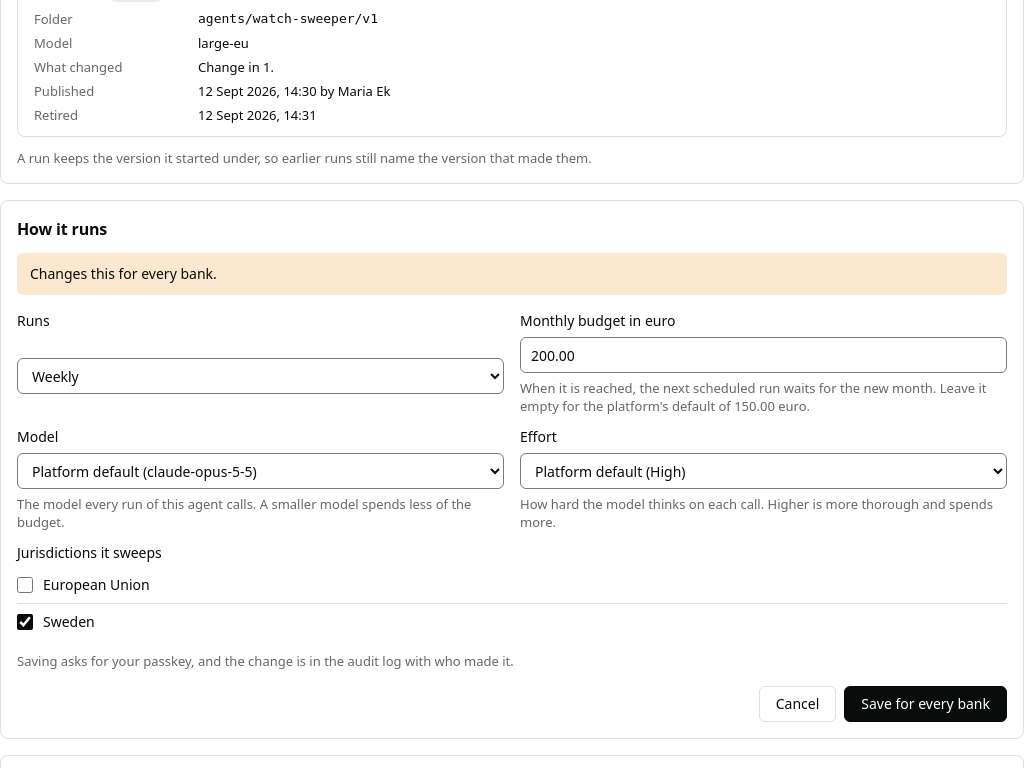
Test: console agent definition › saves how a platform agent runs for every bank, after a passkey
(page scrolled)
Check: the text "Changes this for every bank." is shown, box [17, 253, 1007, 295]
Check: the checkbox labelled "Sweden" is checked, box [17, 614, 33, 630]
Select "Daily" in the dropdown labelled "Runs" at [260, 376], box [17, 358, 504, 394]
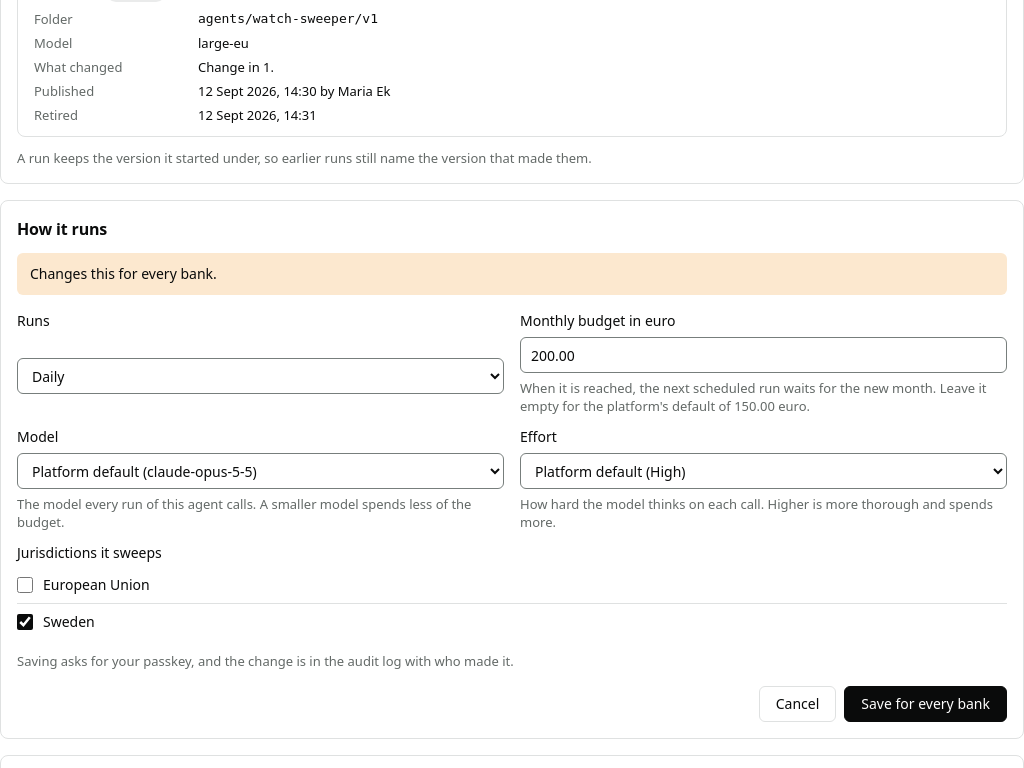
Click the checkbox labelled "European Union" at [25, 585], box [17, 577, 33, 593]
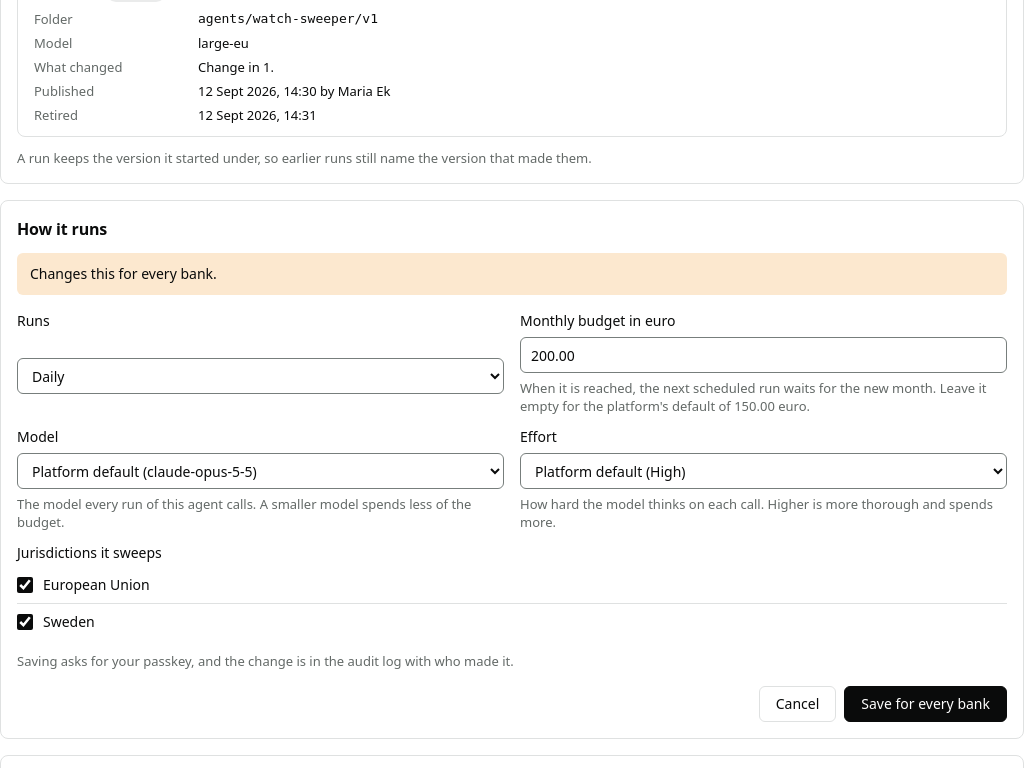
Replace the text in the field labelled "Monthly budget in euro" with "250" at [764, 355], box [520, 337, 1007, 373]
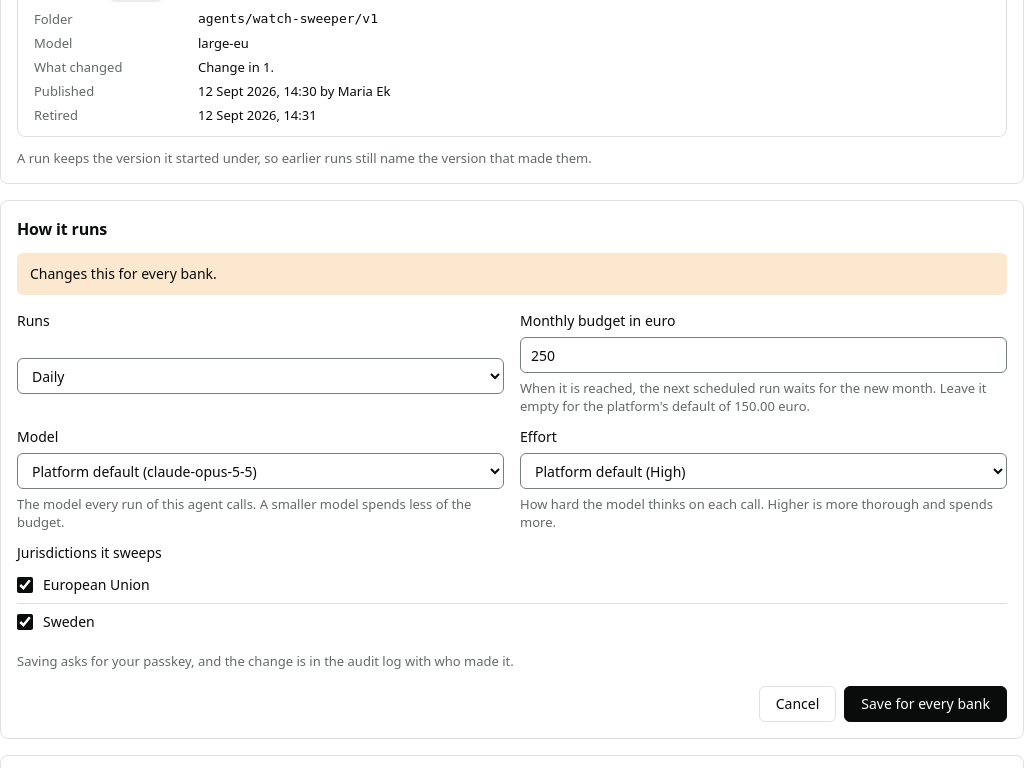
Check: the text "When it is reached, the next scheduled run waits for the new month. Leave it empty for the platform's default of 150.00 " is shown, box [520, 379, 986, 415]
Select "claude-sonnet-5-5" in the dropdown labelled "Model" at [260, 471], box [17, 453, 504, 489]
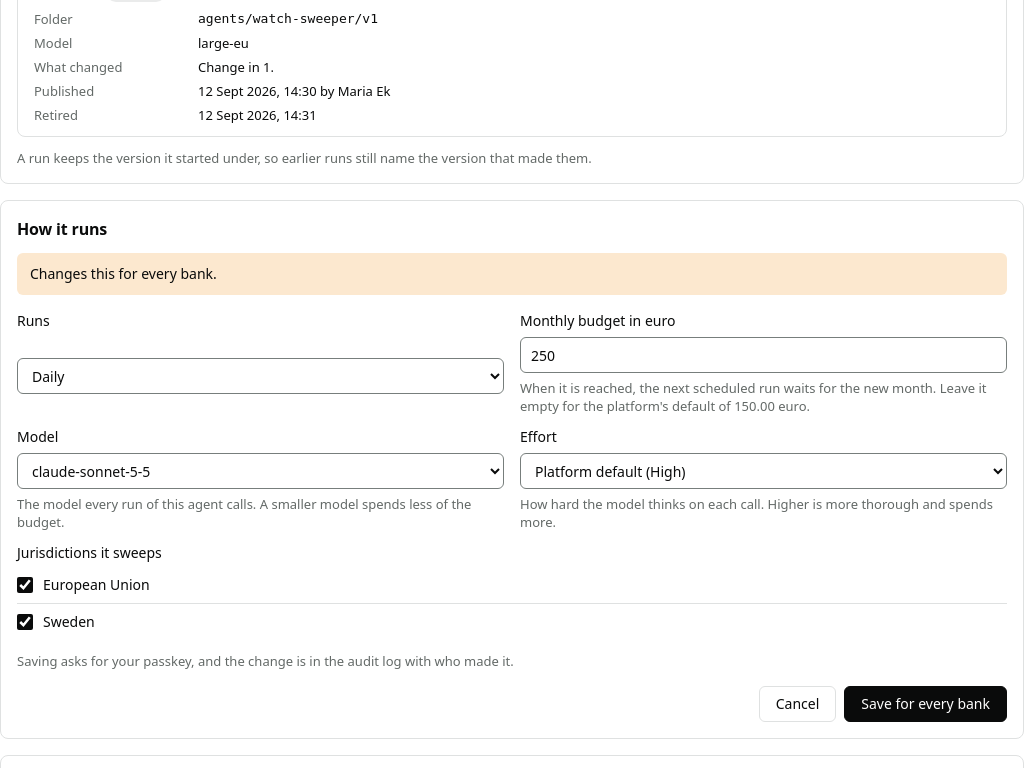
Select "Low" in the dropdown labelled "Effort" at [764, 471], box [520, 453, 1007, 489]
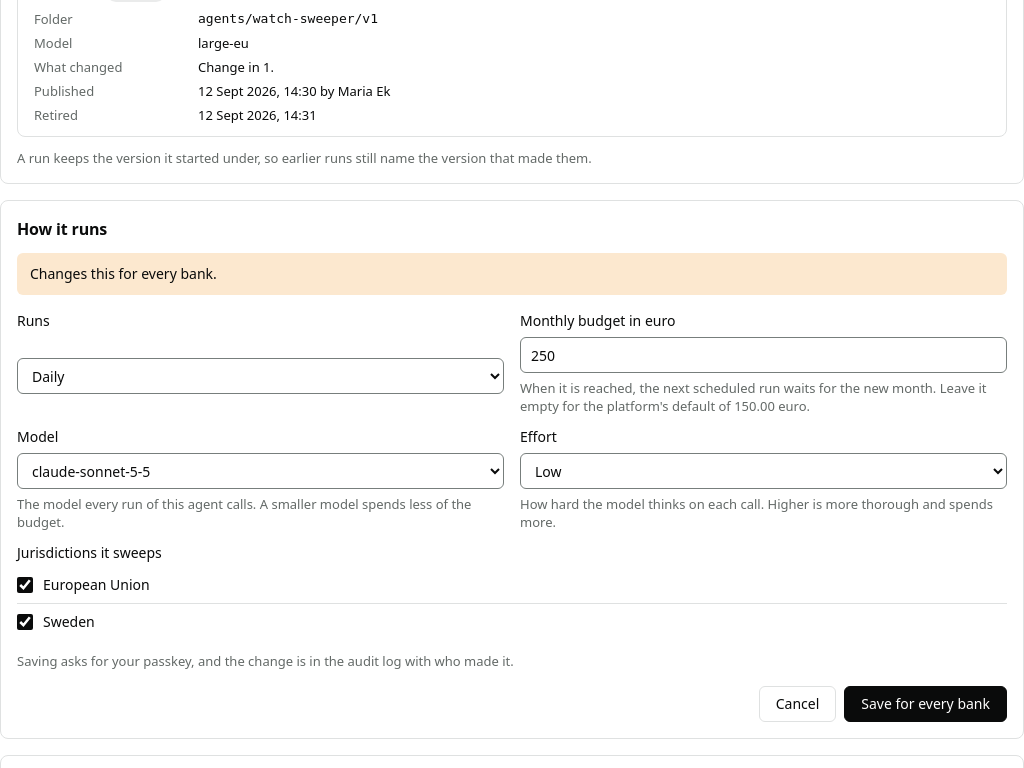
Click the button "Save for every bank" at [926, 704], box [844, 686, 1007, 722]
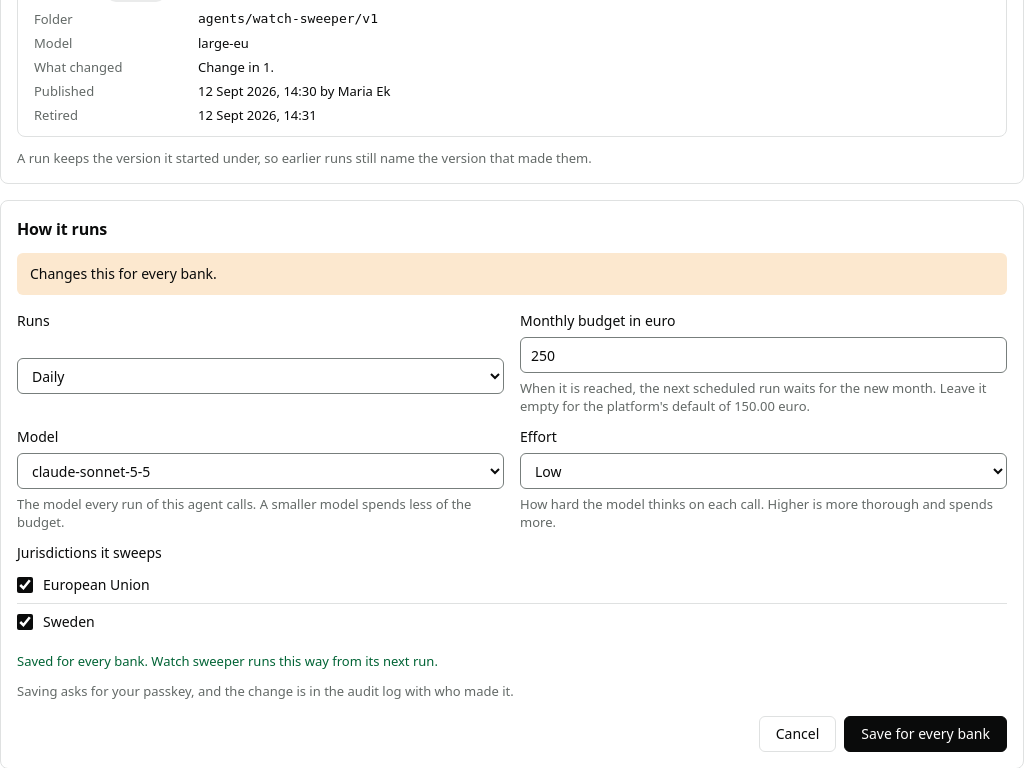
Check: the text "Saved for every bank. Watch sweeper runs this way from its next run." is shown, box [17, 652, 438, 670]
